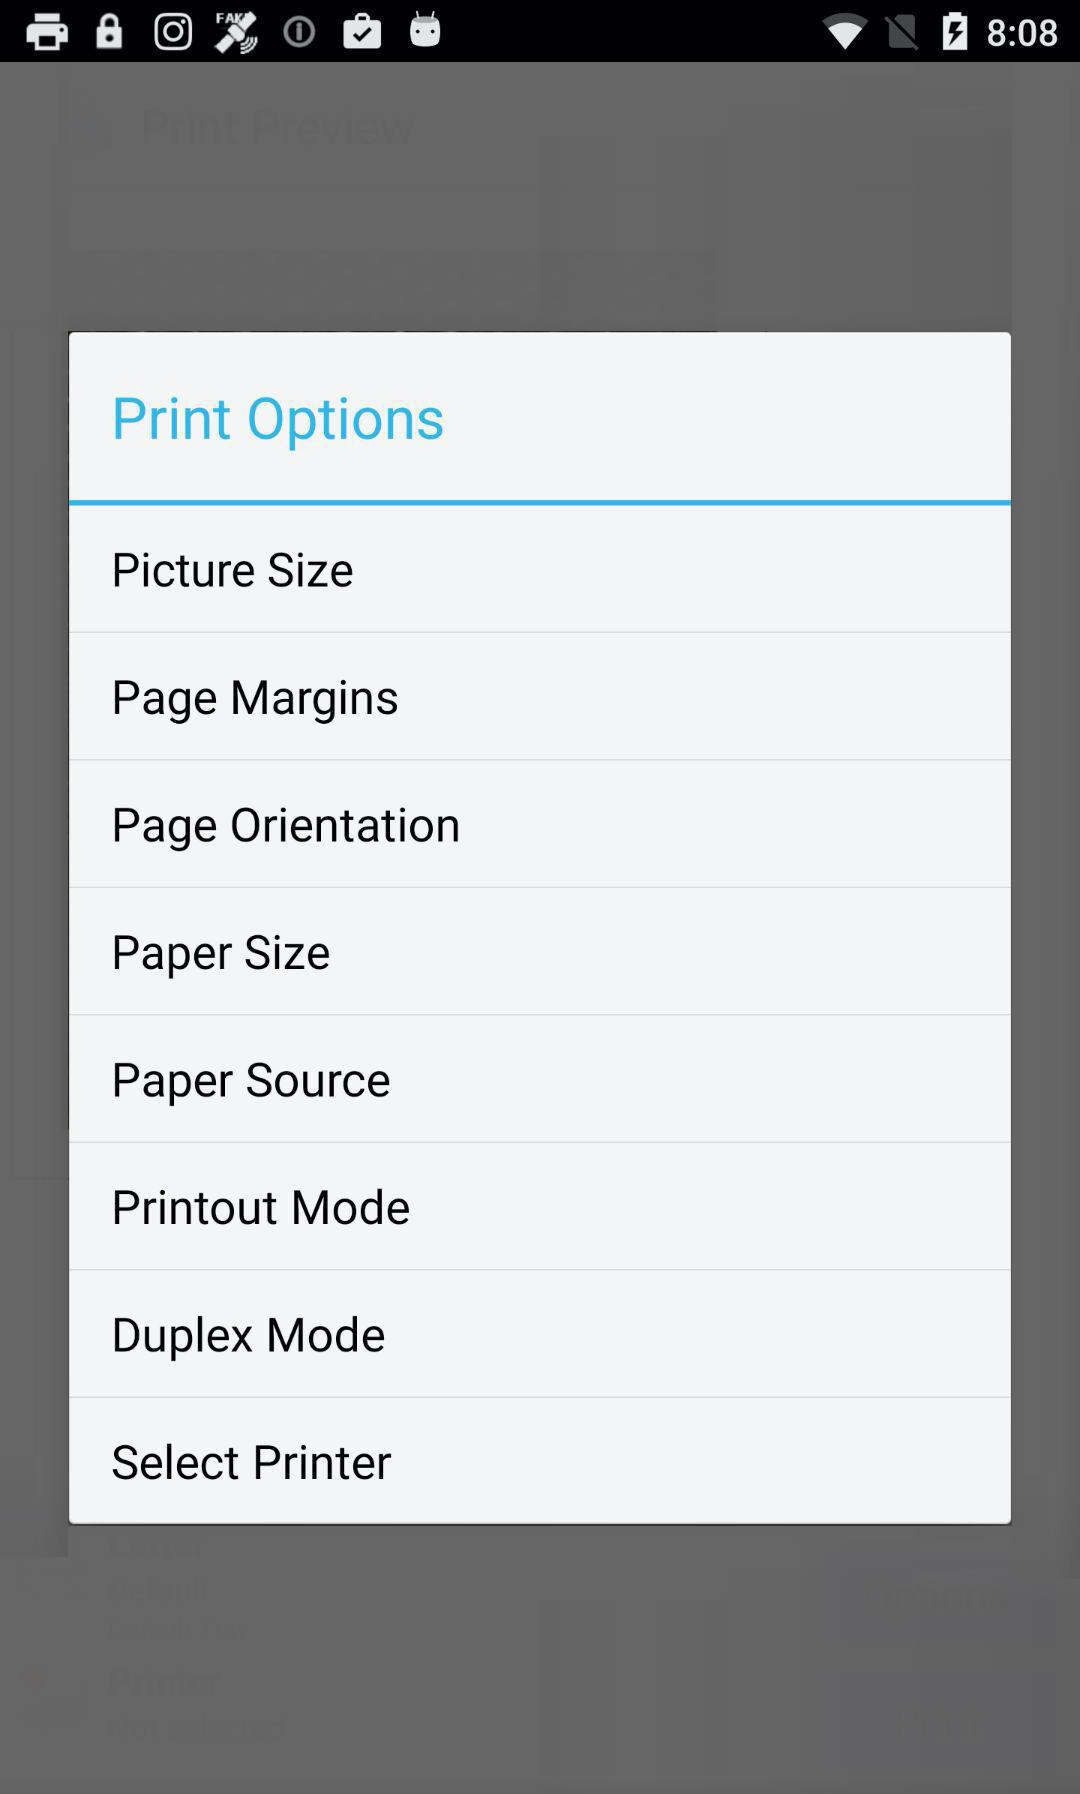Modal: (69, 332, 1012, 1524)
Text: (115, 396, 445, 454), (114, 806, 460, 853), (114, 678, 398, 727), (114, 1315, 386, 1363), (114, 1061, 391, 1108), (114, 1187, 411, 1228), (113, 1442, 393, 1481), (114, 933, 331, 982), (114, 551, 354, 589)
UpperTaskBar: (1, 1, 1080, 64)
